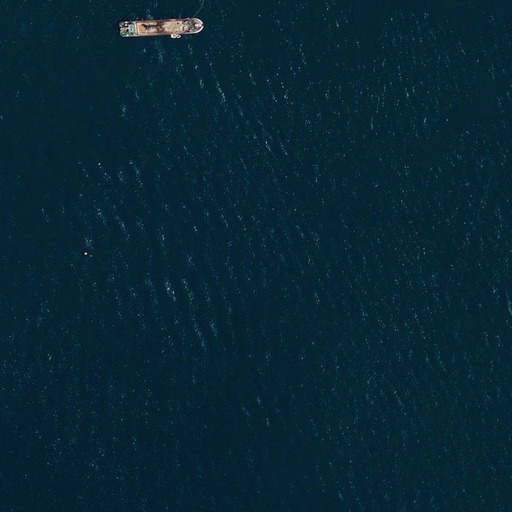ship: (115, 15, 206, 42)
